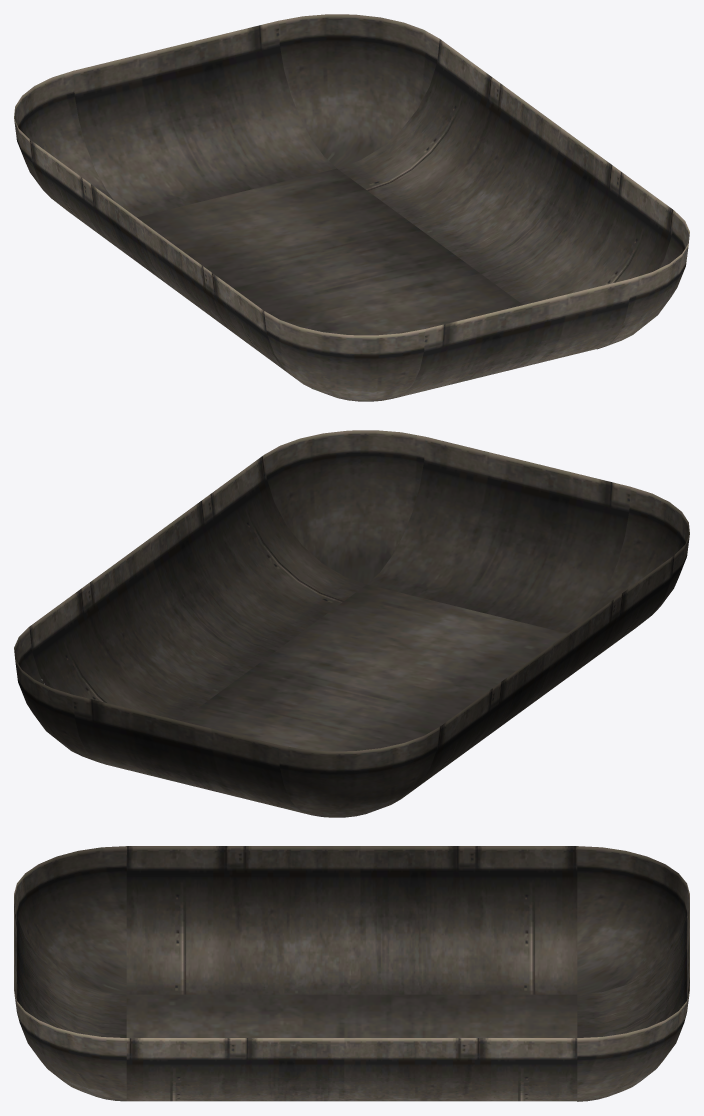
File: plaintmetalramp.fbx
3 renders of one model, top to bottom at view 1: azimuth 30°, elevation 25°; view 2: azimuth 150°, elevation 25°; view 3: azimuth 270°, elevation 25°, orthographic. The views are drawn at different scales.
Visible parts, largest first — view 1: Mesh_0189.rip; view 2: Mesh_0189.rip; view 3: Mesh_0189.rip.
Part boxes in pixels (x1,y1,x2,y2): Mesh_0189.rip: (14, 14, 689, 401); Mesh_0189.rip: (14, 430, 689, 817); Mesh_0189.rip: (14, 846, 689, 1101).
Bounding box in the file's own units: 1635 × 399 × 2433.
